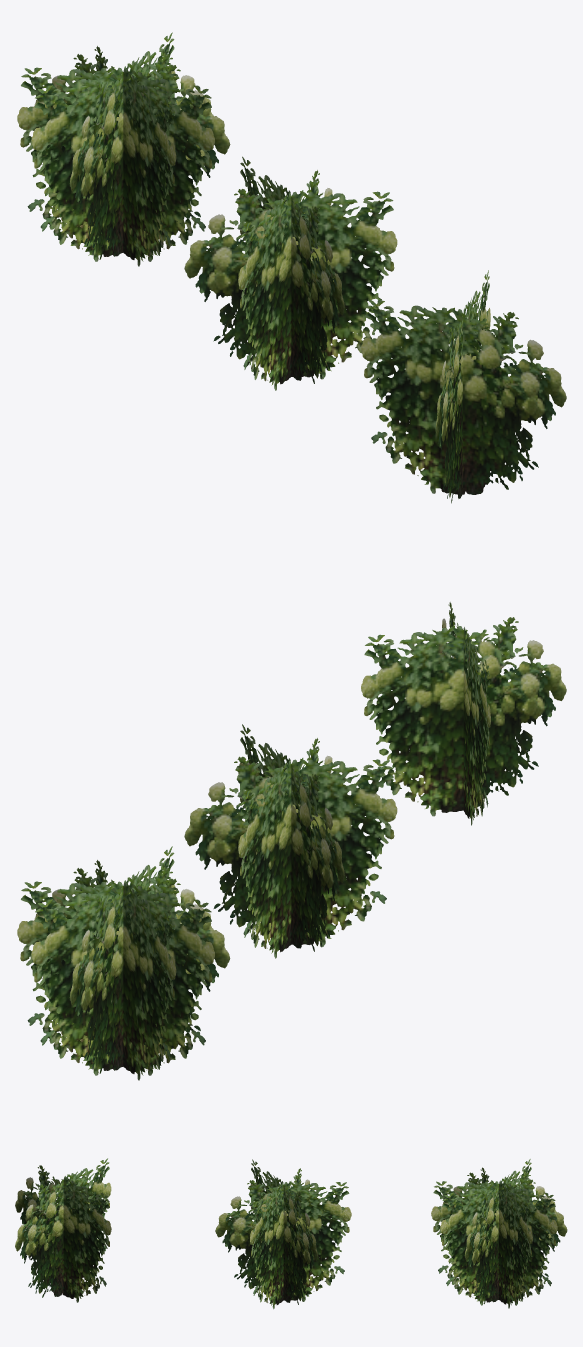
File: Sketchfab_2023_02_24_14_06_22.fbx
3 renders of one model, top to bottom at view 1: azimuth 30°, elevation 25°; view 2: azimuth 150°, elevation 25°; view 3: azimuth 270°, elevation 25°, orthographic. The views are drawn at different scales.
Visible parts, largest first — view 1: BIG PLANT, MEDIUM PLANT, SMOLL PLANT; view 2: BIG PLANT, MEDIUM PLANT, SMOLL PLANT; view 3: BIG PLANT, MEDIUM PLANT, SMOLL PLANT.
Part boxes in pixels (x1,y1,x2,y2): BIG PLANT: [17, 32, 230, 266]; MEDIUM PLANT: [184, 156, 397, 390]; SMOLL PLANT: [361, 270, 566, 503]; BIG PLANT: [17, 846, 230, 1080]; MEDIUM PLANT: [184, 724, 397, 958]; SMOLL PLANT: [361, 602, 566, 825]; BIG PLANT: [431, 1159, 567, 1308]; MEDIUM PLANT: [215, 1159, 351, 1309]; SMOLL PLANT: [15, 1158, 111, 1302].
Bounding box in the file's own units: 79.67 × 82.99 × 316.
